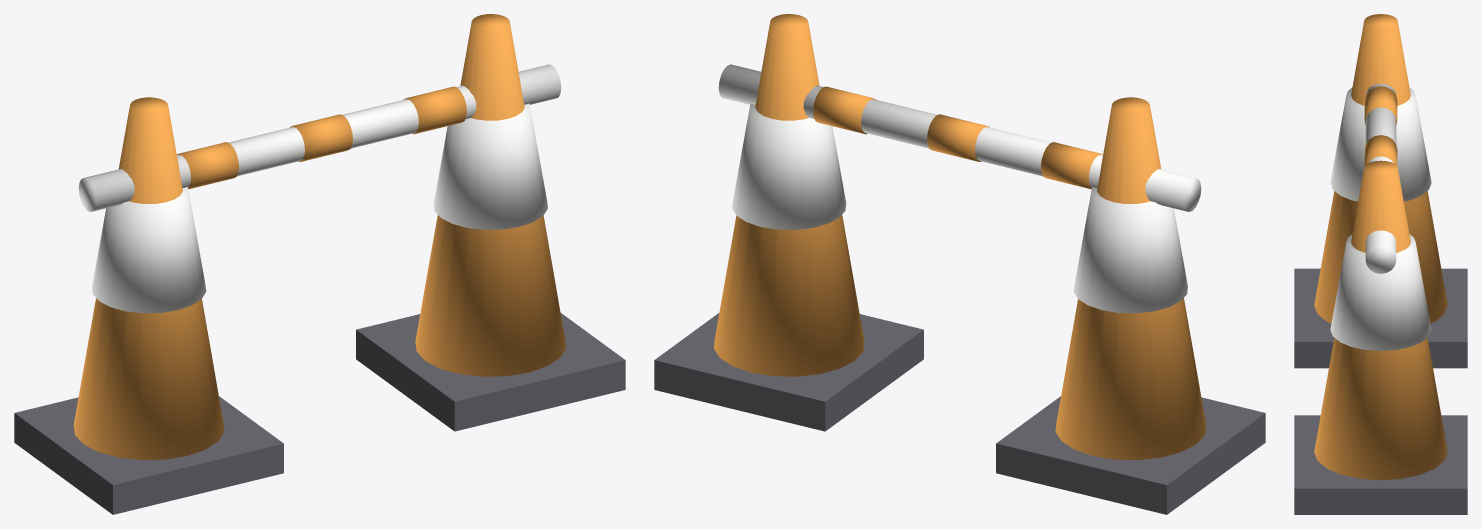
File: obs_traffic_cone.glb
3 views of the same model, side by side, from view 1: azimuth 30°, elevation 25°; view 2: azimuth 150°, elevation 25°; view 3: azimuth 270°, elevation 25° (orthographic). The views are drawn at different scales.
Visible parts, largest first — view 1: 円錐.002, 円錐, 立方体.001, 立方体, 円錐.001, 円錐.003, 円柱, 円柱.003, 円柱.002, 円柱.001; view 2: 円錐.002, 円錐, 立方体.001, 立方体, 円錐.001, 円錐.003, 円柱, 円柱.003, 円柱.002, 円柱.001; view 3: 円錐.002, 立方体.001, 円錐, 円錐.003, 立方体, 円錐.001, 円柱, 円柱.001, 円柱.002.
Boxes of the visible parts, bbox=[...] form: 円錐.002: bbox=[415, 14, 566, 376]; 円錐: bbox=[73, 97, 224, 459]; 立方体.001: bbox=[356, 313, 625, 431]; 立方体: bbox=[14, 396, 283, 514]; 円錐.001: bbox=[92, 187, 206, 313]; 円錐.003: bbox=[433, 103, 547, 229]; 円柱: bbox=[78, 64, 561, 211]; 円柱.003: bbox=[403, 86, 466, 134]; 円柱.002: bbox=[290, 114, 352, 161]; 円柱.001: bbox=[177, 142, 238, 189]; 円錐.002: bbox=[713, 14, 864, 376]; 円錐: bbox=[1055, 97, 1206, 459]; 立方体.001: bbox=[654, 313, 923, 431]; 立方体: bbox=[996, 396, 1265, 514]; 円錐.001: bbox=[1073, 187, 1187, 313]; 円錐.003: bbox=[732, 103, 846, 229]; 円柱: bbox=[718, 64, 1201, 211]; 円柱.003: bbox=[813, 86, 876, 134]; 円柱.002: bbox=[927, 114, 989, 161]; 円柱.001: bbox=[1041, 142, 1102, 189]; 円錐.002: bbox=[1314, 160, 1447, 480]; 立方体.001: bbox=[1294, 415, 1467, 514]; 円錐: bbox=[1314, 14, 1447, 323]; 円錐.003: bbox=[1330, 234, 1431, 350]; 立方体: bbox=[1294, 268, 1467, 368]; 円錐.001: bbox=[1330, 87, 1431, 201]; 円柱: bbox=[1365, 83, 1396, 273]; 円柱.001: bbox=[1364, 86, 1397, 124]; 円柱.002: bbox=[1364, 135, 1397, 165].
Size of the model in its own units: 1.08 by 0.71 by 0.36.
